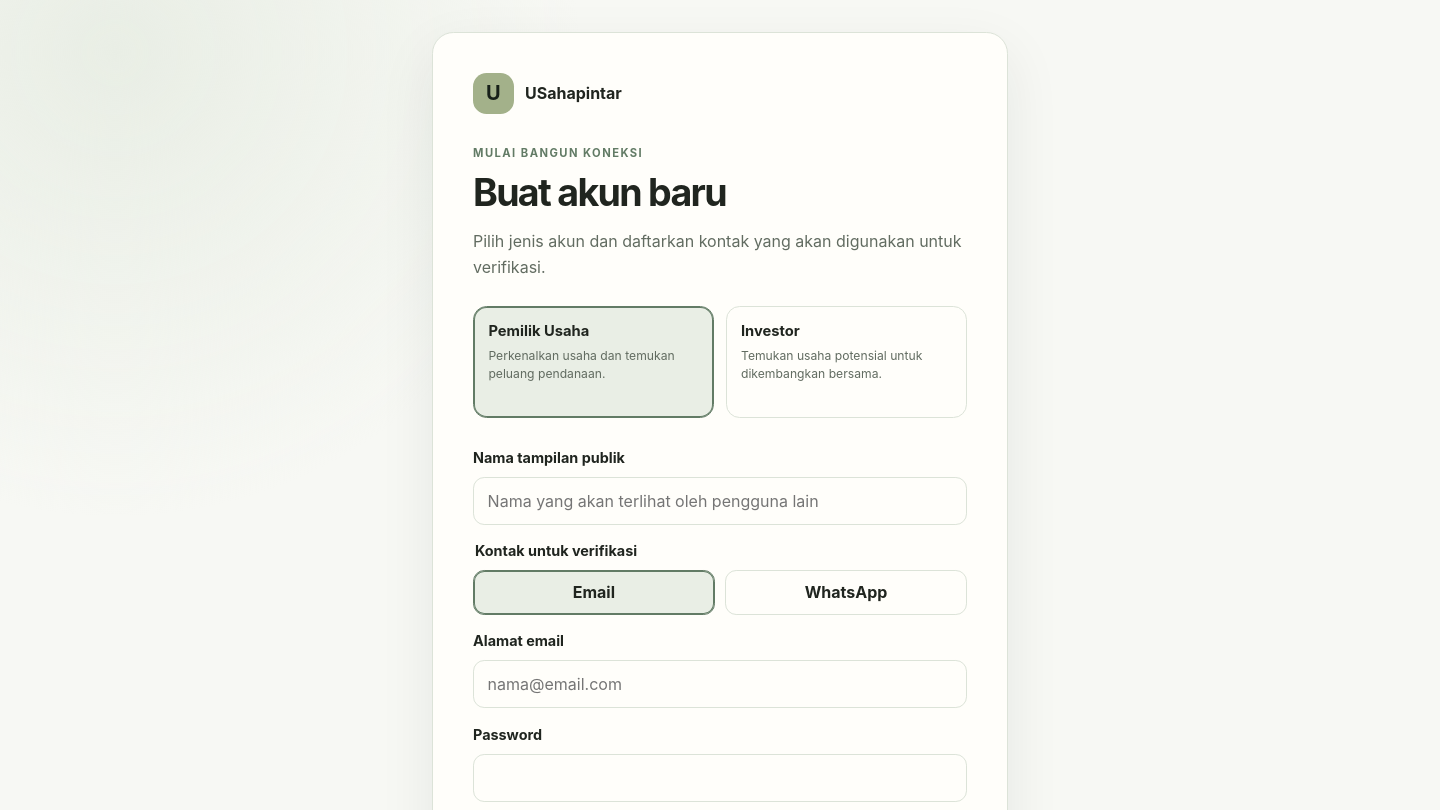
Test: RegistrationPage › lets the visitor choose one client role
Click the button "Investor Temukan usaha potensial untuk dikembangkan bersama.": (846, 362) [726,306,967,418]
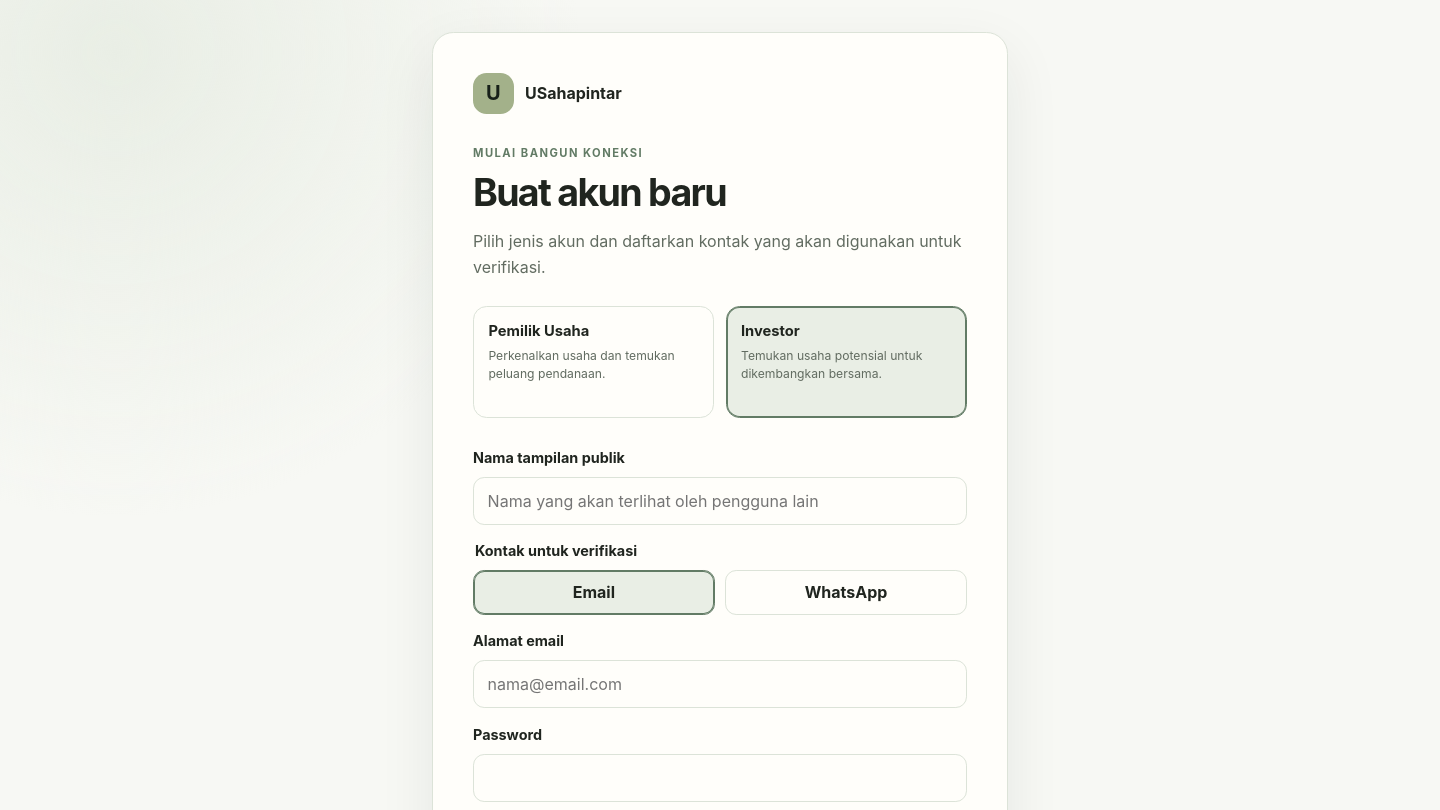
Now the button "Investor Temukan usaha potensial untuk dikembangkan bersama." is pressed, box [726,306,967,418]
Now the button "Pemilik Usaha" is not pressed, box [473,306,714,418]
